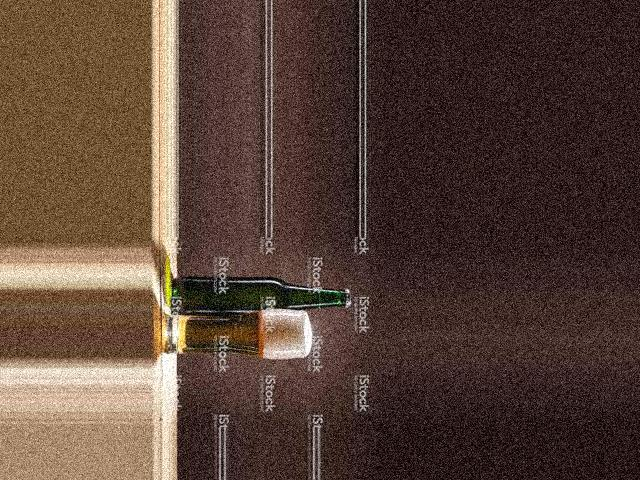beer: (170, 276, 350, 316)
